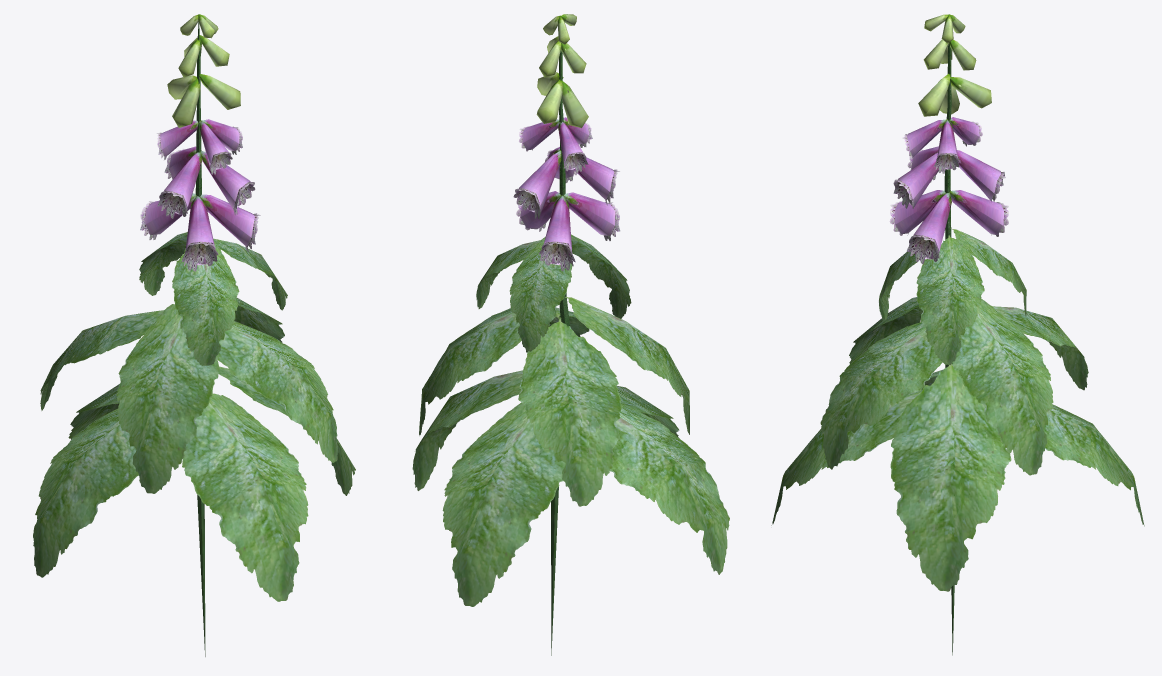
The model's file is tris.obj.
The picture shows the model from 3 angles, left to right: view 1: azimuth 30°, elevation 25°; view 2: azimuth 150°, elevation 25°; view 3: azimuth 270°, elevation 25°; orthographic projection.
Parts seen in each view (by area): view 1: skin; view 2: skin; view 3: skin.
Part boxes in pixels (left/top/right/bottom): skin: left=33, top=14, right=355, bottom=656; skin: left=412, top=14, right=729, bottom=655; skin: left=771, top=14, right=1144, bottom=655.
Bounding box in the file's own units: 48.61 × 98.31 × 52.48.
Materials: 1 (1 with a texture image).
